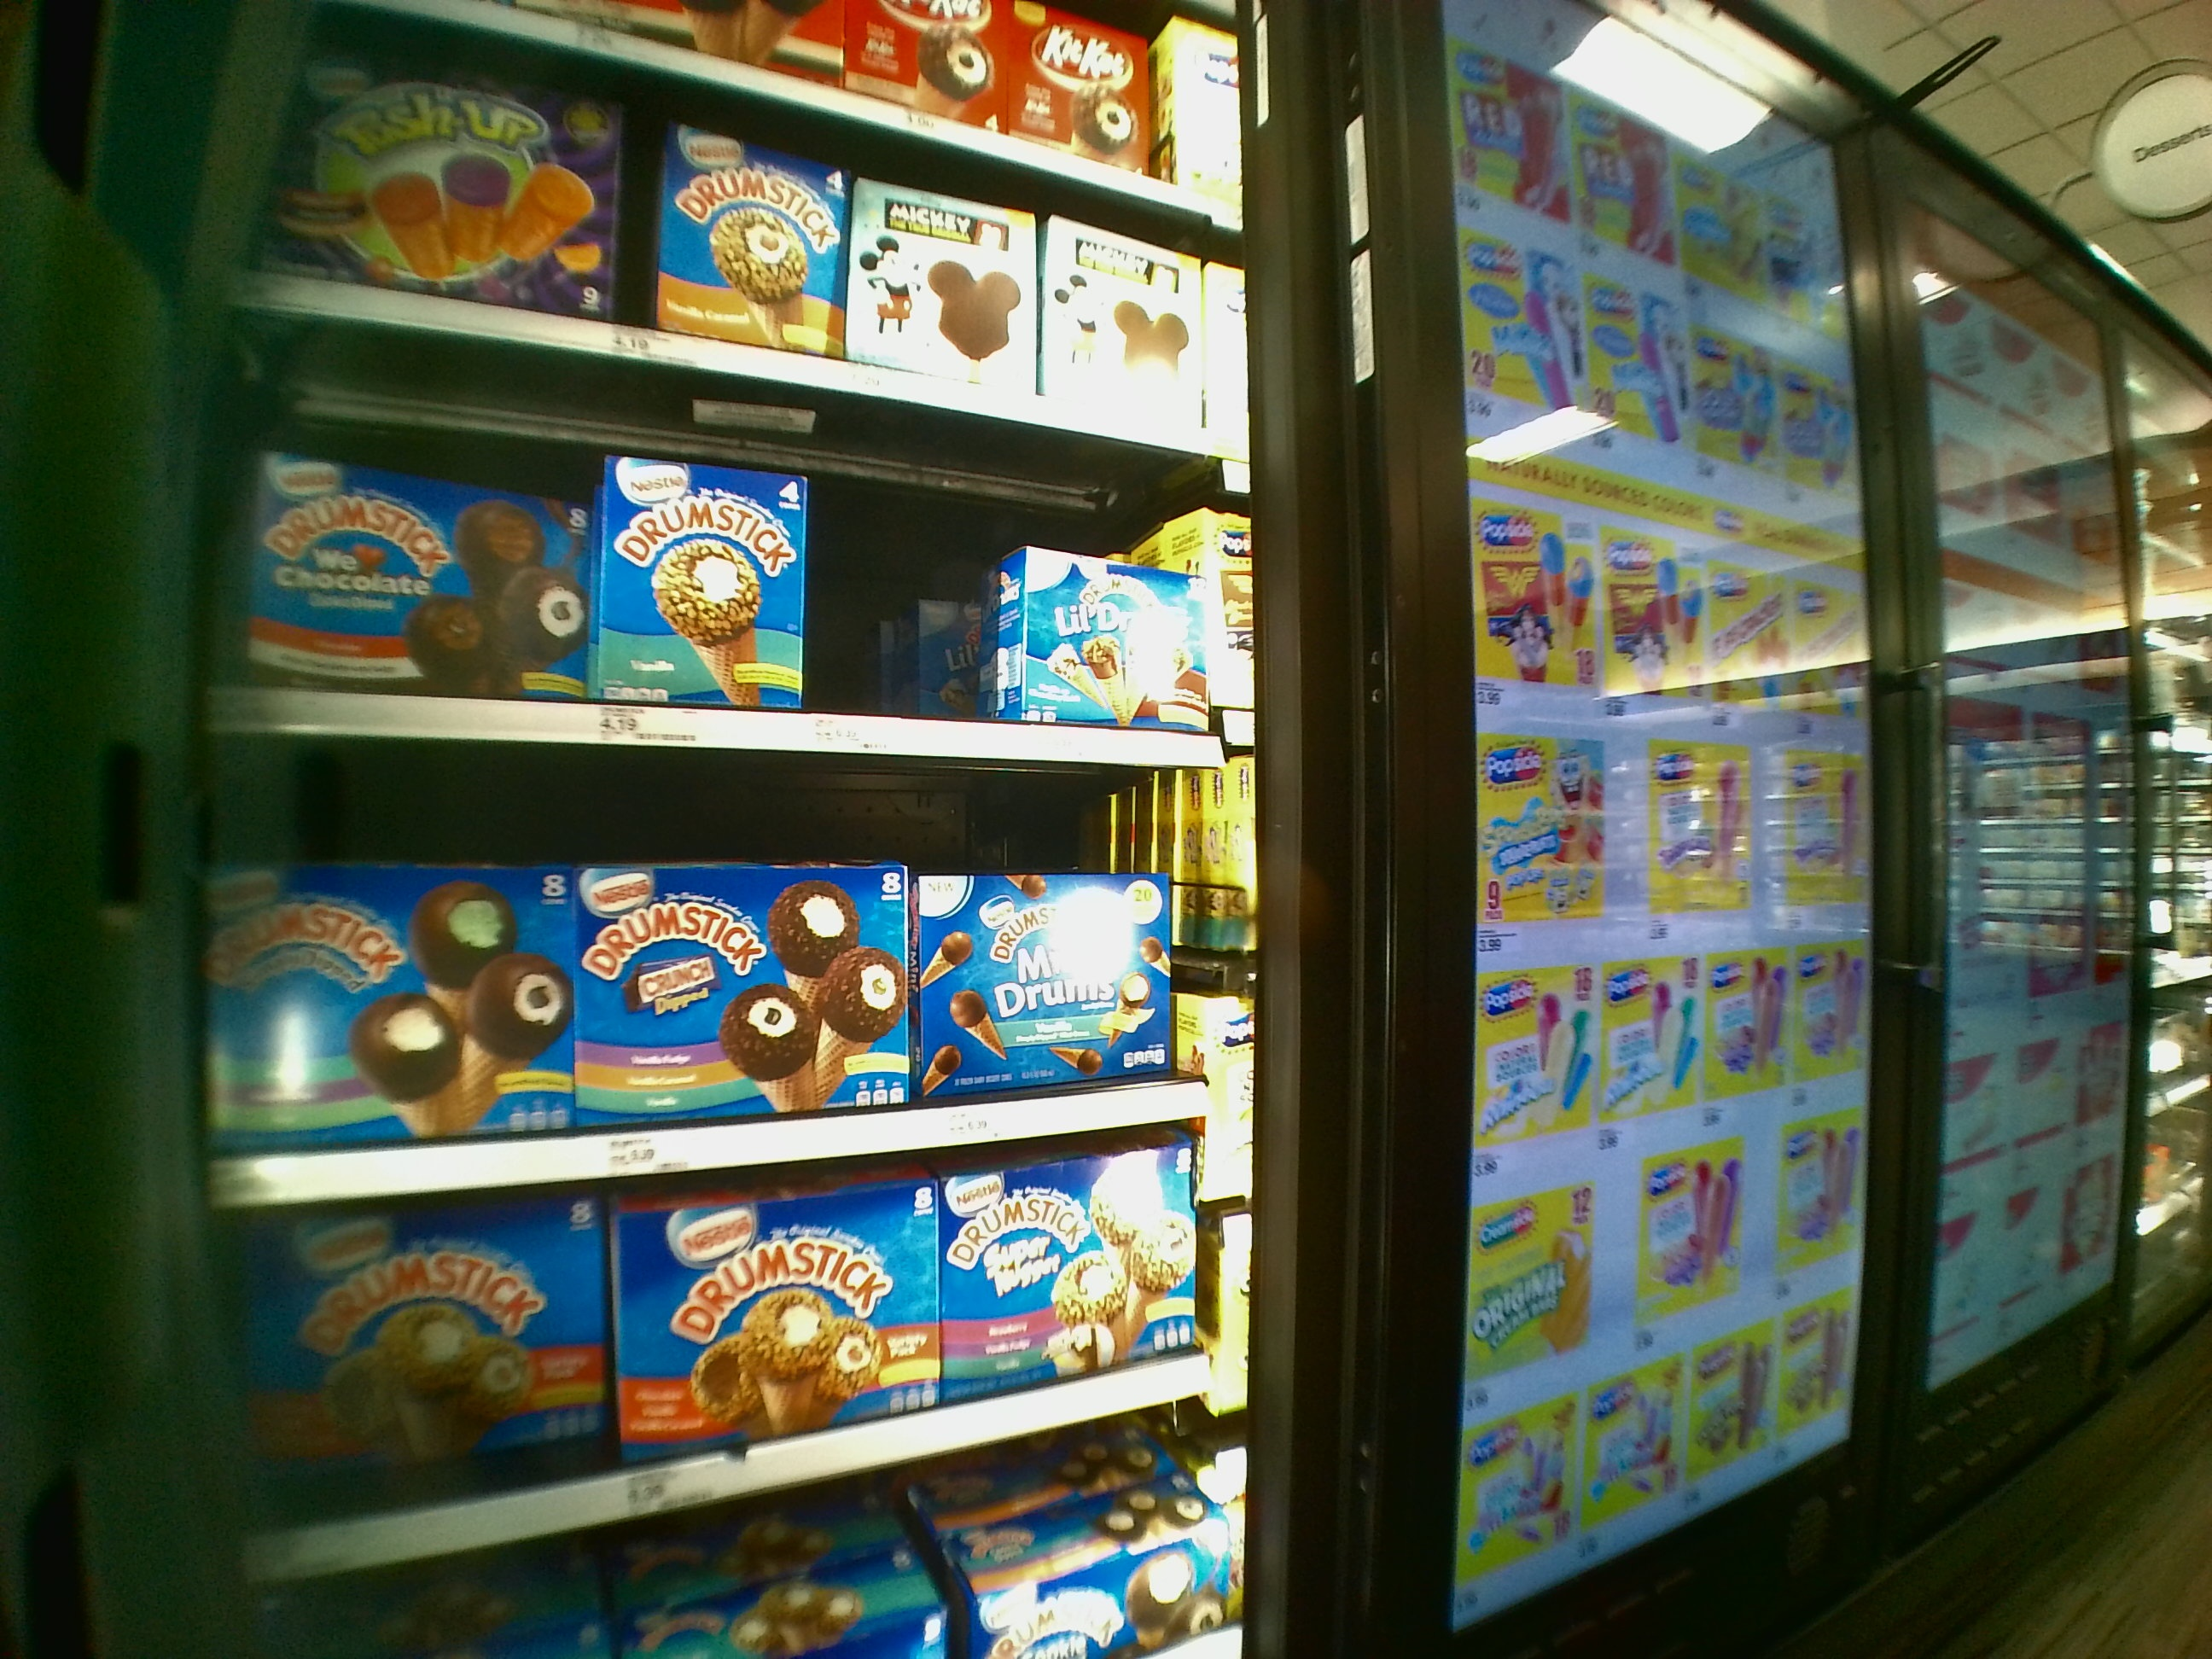shelf: (209, 734, 1221, 1176), (207, 416, 1252, 770), (235, 1176, 1247, 1516)
